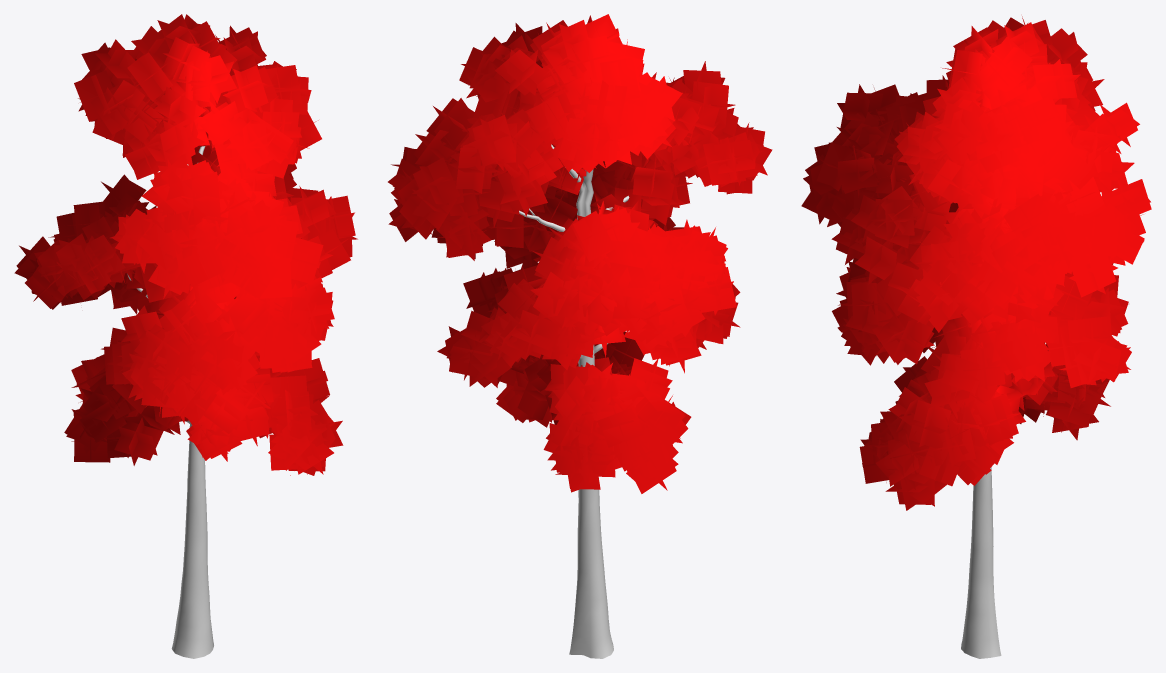
File: SM_TreeTower_08.fbx
The picture shows the model from 3 angles, left to right: view 1: azimuth 30°, elevation 25°; view 2: azimuth 150°, elevation 25°; view 3: azimuth 270°, elevation 25°; orthographic projection. The views are drawn at different scales.
Visible parts, largest first — view 1: SM_TreeTower_09_LOD0; view 2: SM_TreeTower_09_LOD0; view 3: SM_TreeTower_09_LOD0.
Boxes of the visible parts, x1,y1,x2,y2 form: SM_TreeTower_09_LOD0: (14, 14, 357, 658); SM_TreeTower_09_LOD0: (388, 14, 772, 658); SM_TreeTower_09_LOD0: (801, 16, 1151, 658).
Size of what is drawn, in the model's own units: 11.49 by 22.92 by 11.67.
